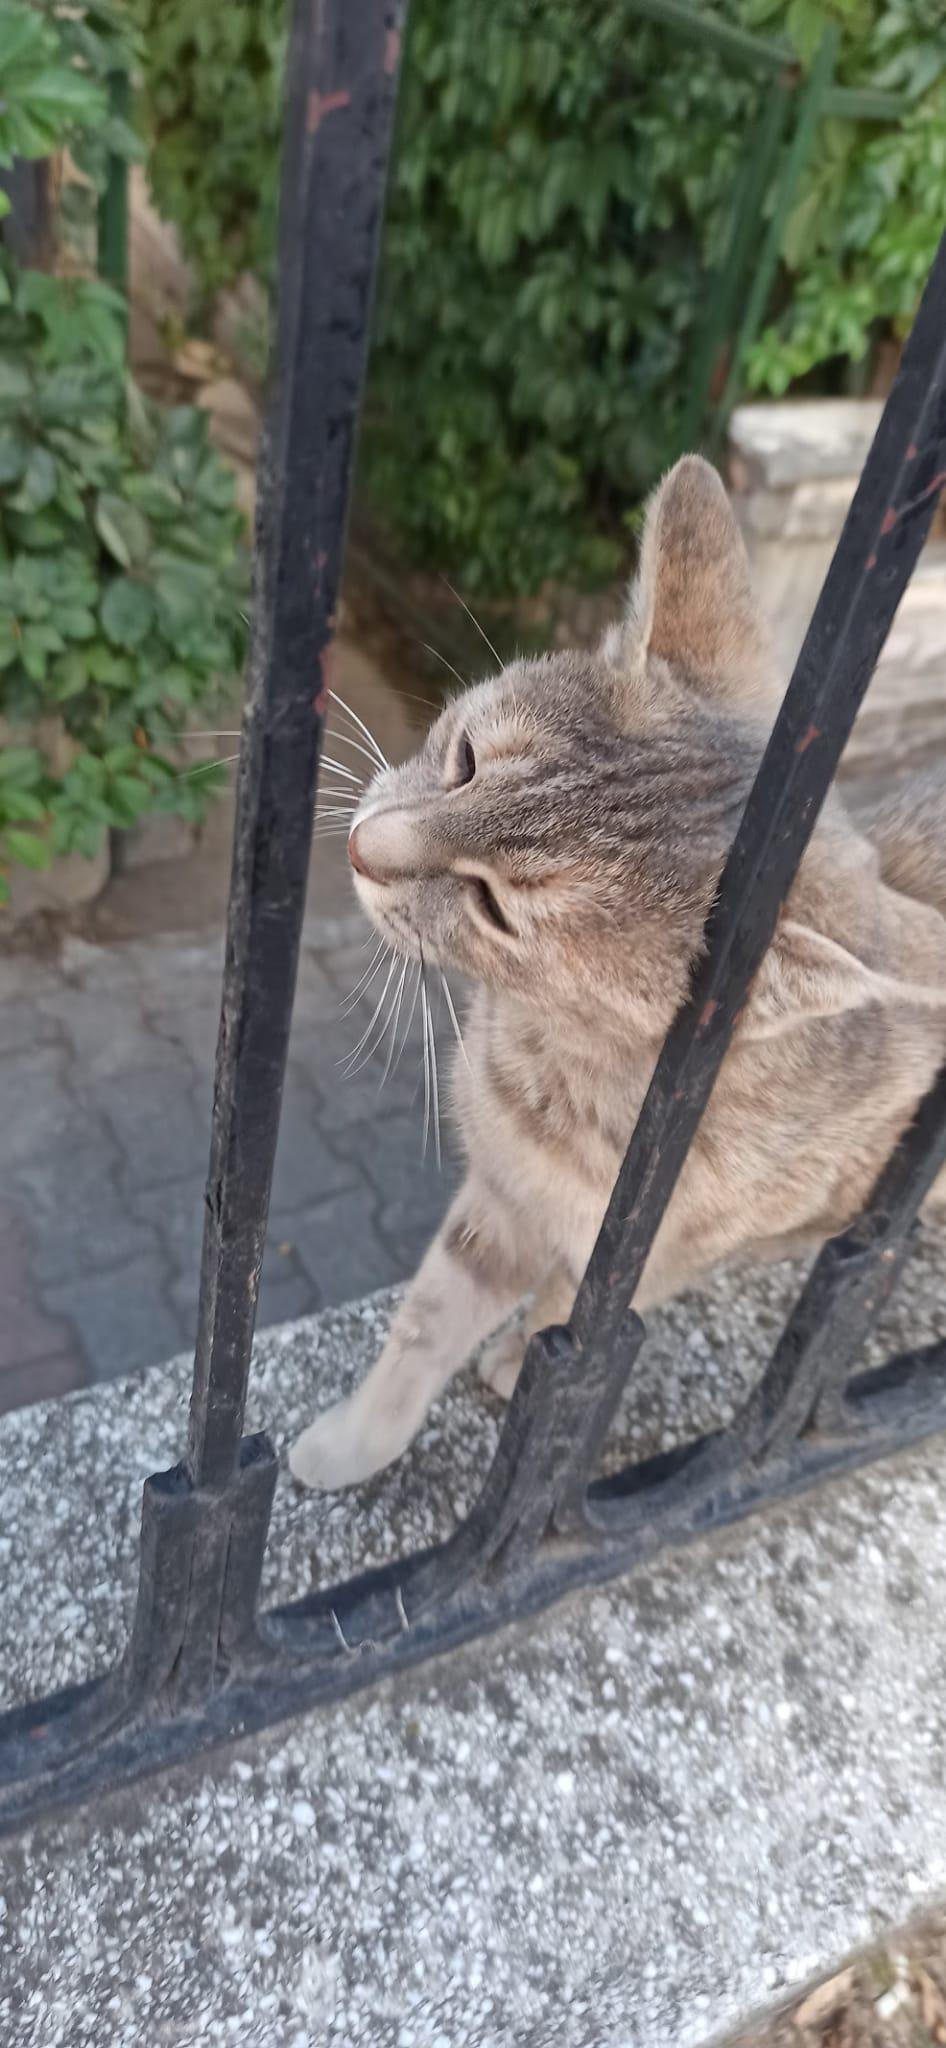kedo: (284, 444, 946, 1490)
